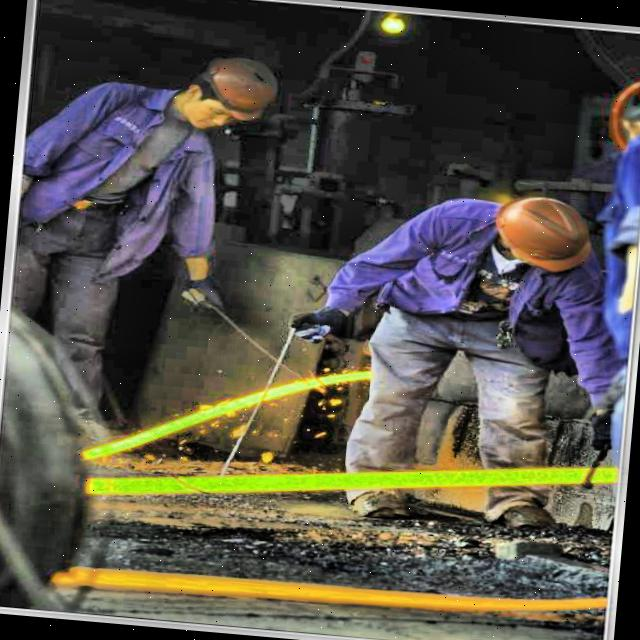helmet: (482, 189, 599, 282), (168, 49, 280, 138), (604, 66, 640, 169)
